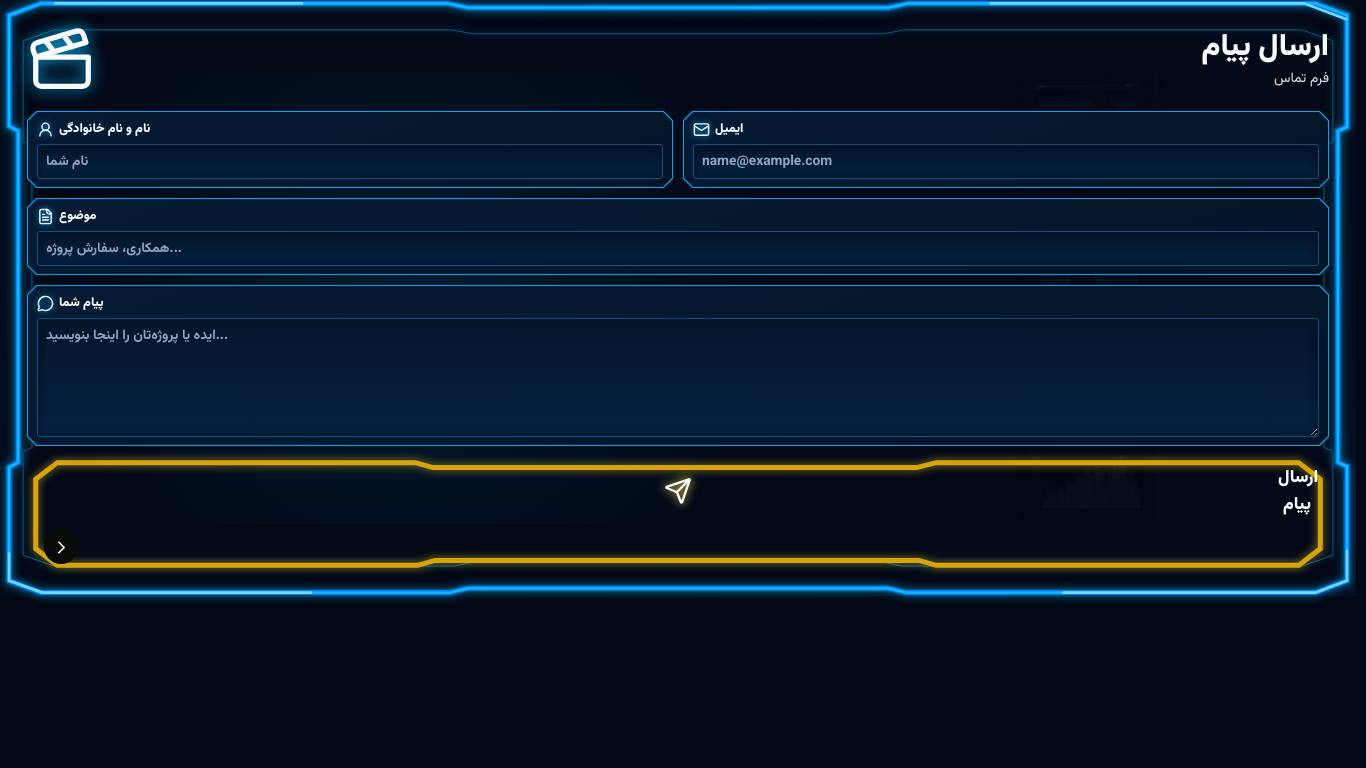
Scenario: contact message behavior › keeps input available for retry after {"code":"RATE_LIMITED","details":{},"status":429}
Type "Test Editor" into the field labelled "نام و نام خانوادگی" at (350, 162), box left=37, top=144, right=663, bottom=179
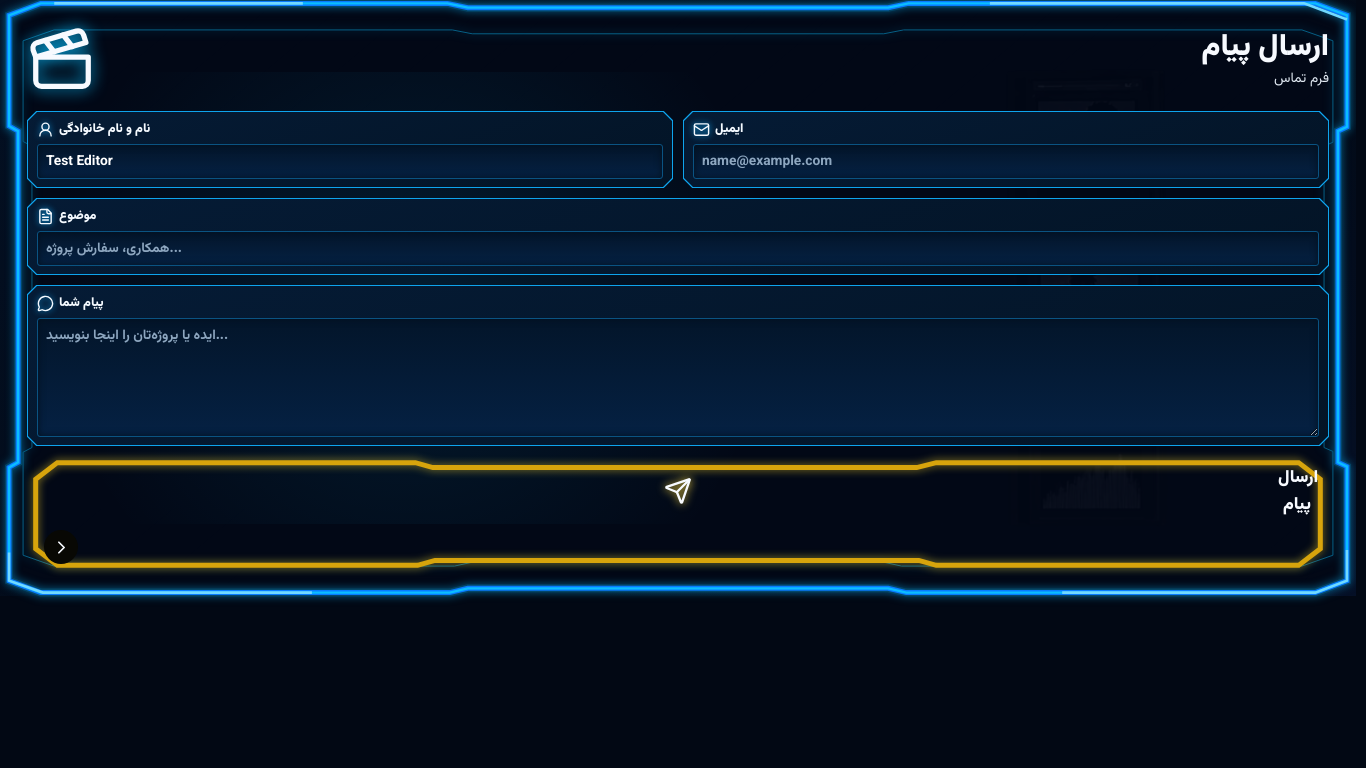
Type "test@example.com" into the field labelled "ایمیل" at (1006, 162), box left=693, top=144, right=1319, bottom=179
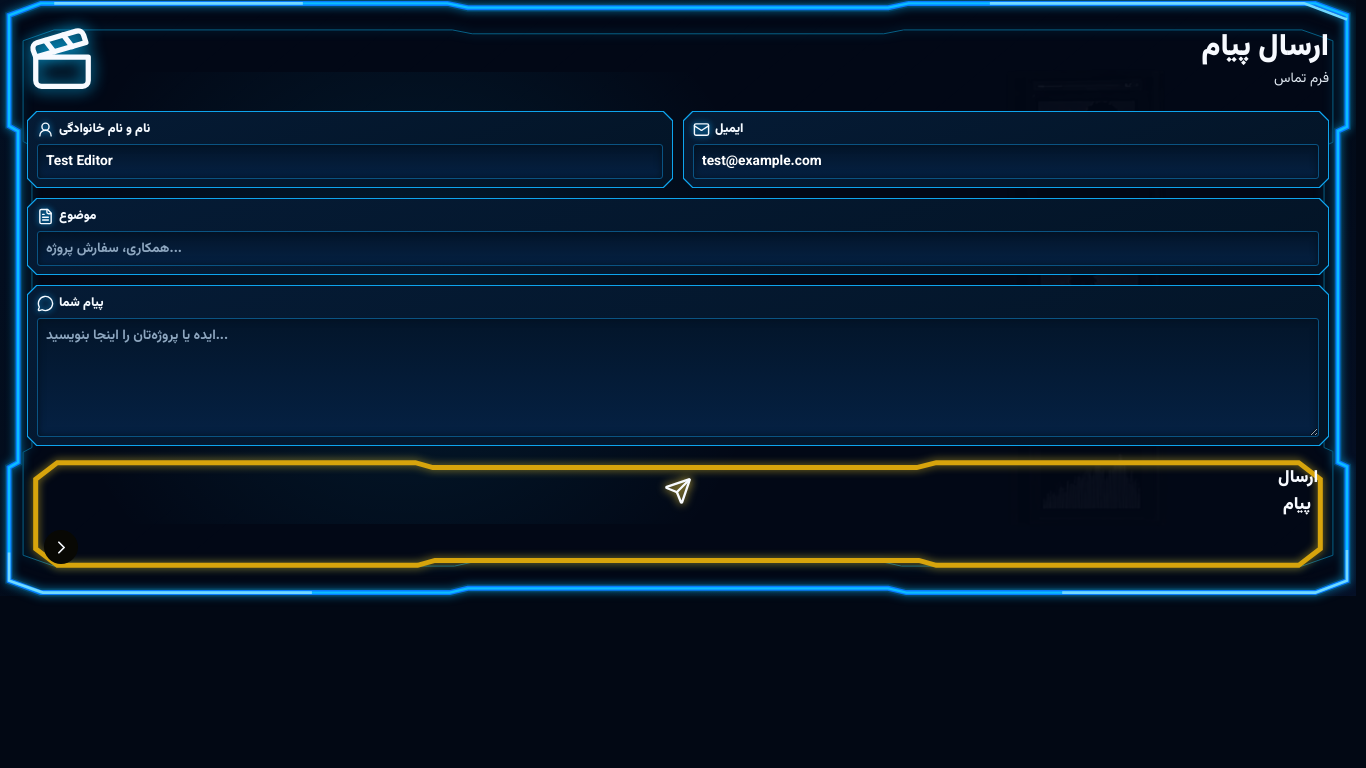
Type "Project request" into the field labelled "موضوع" at (678, 248), box left=37, top=231, right=1319, bottom=266
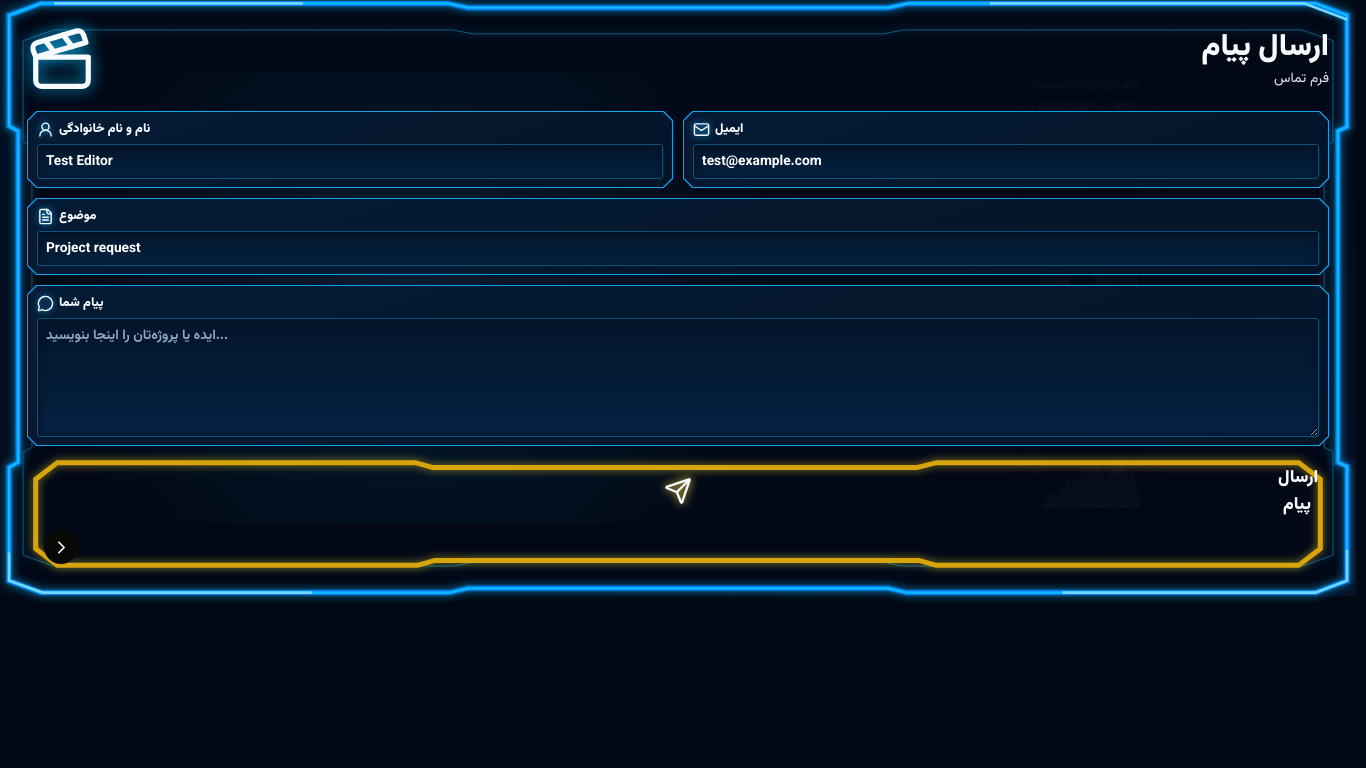
Type "Please edit a sample video project." into the text box labelled "پیام شما" at (678, 378), box left=37, top=318, right=1319, bottom=437
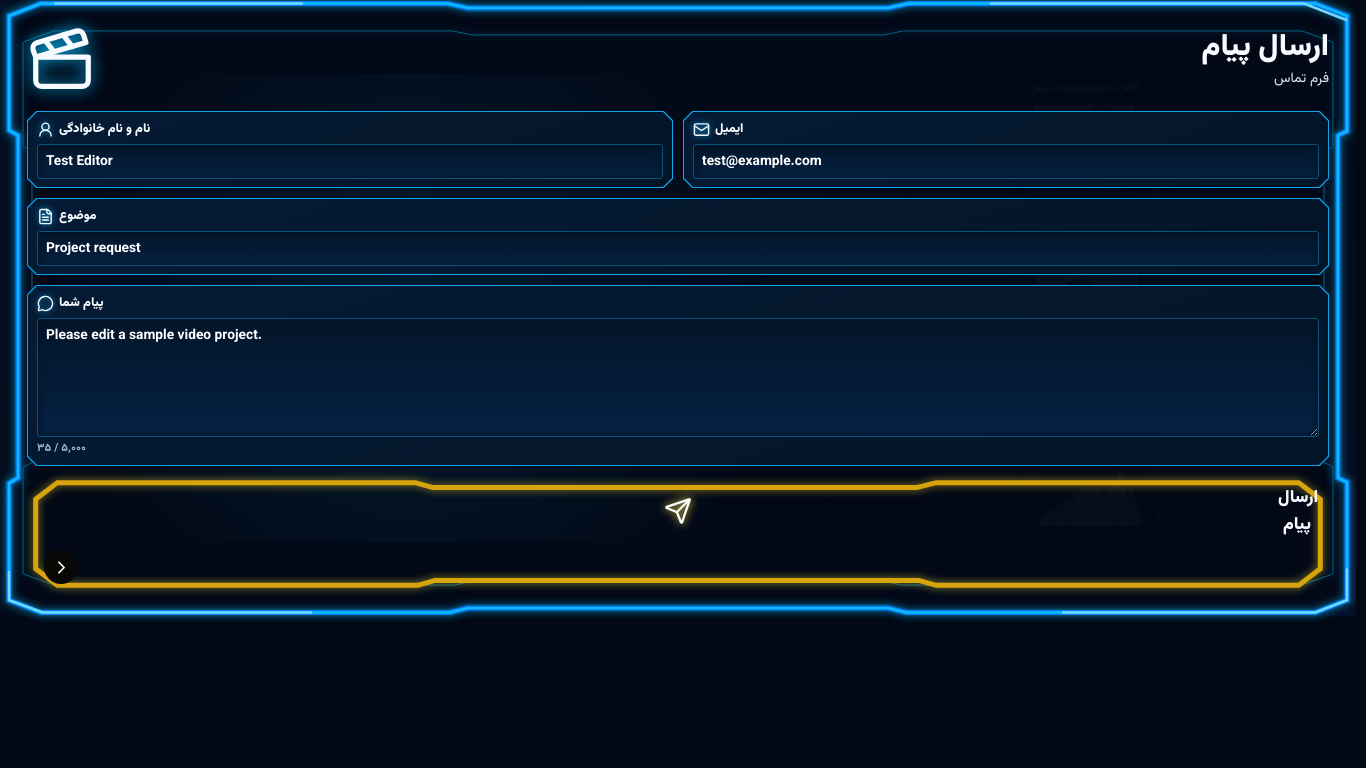
Click the button "ارسال پیام" at (678, 534), box left=27, top=476, right=1329, bottom=592
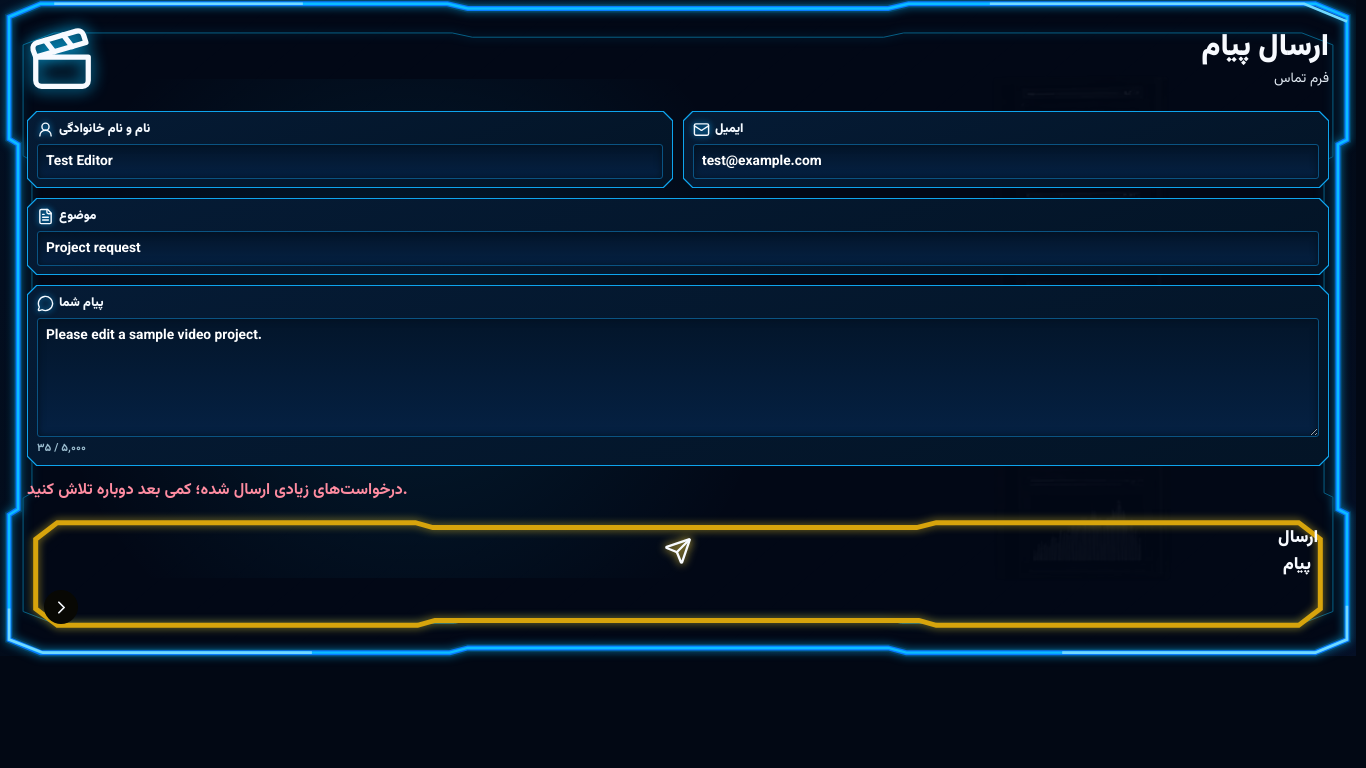
Expected: the button "ارسال پیام" is enabled, left=27, top=516, right=1329, bottom=632
Result: the text "درخواست‌های زیادی ارسال شده؛ کمی بعد دوباره تلاش کنید." is shown at left=27, top=478, right=408, bottom=503
